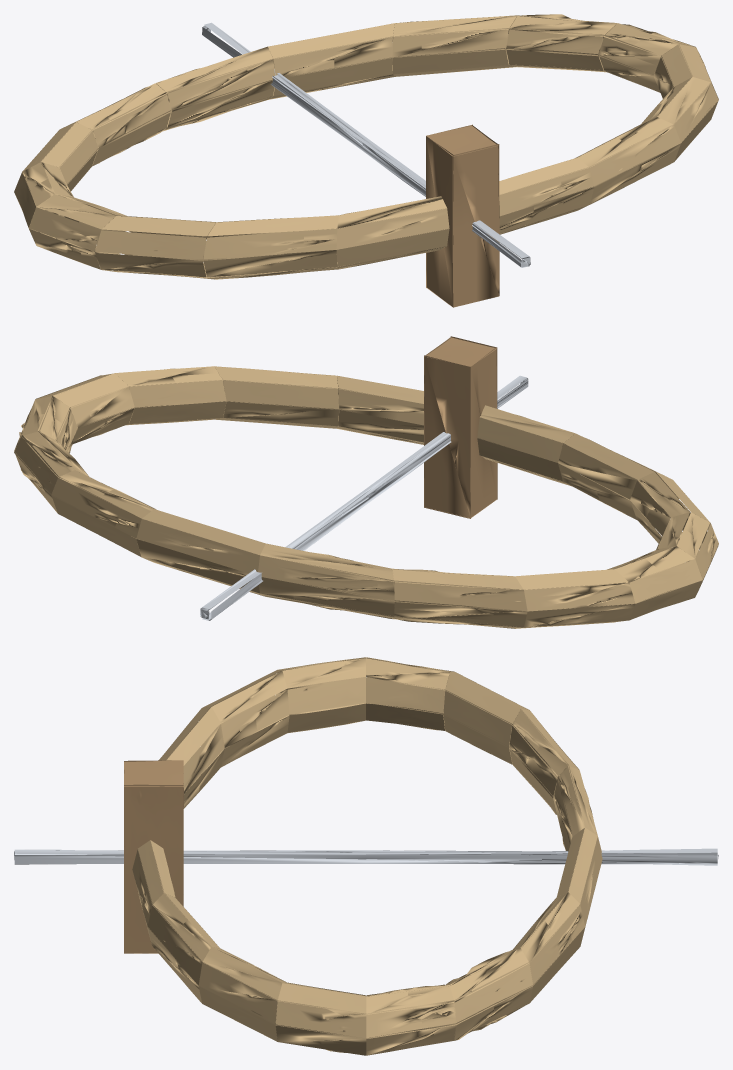
The model's file is bow.glb.
The picture shows the model from 3 angles, top to bottom: view 1: azimuth 30°, elevation 25°; view 2: azimuth 150°, elevation 25°; view 3: azimuth 270°, elevation 25°; orthographic projection. The views are drawn at different scales.
Parts seen in each view (by area): view 1: BowCurve; view 2: BowCurve; view 3: BowCurve.
Part boxes in pixels (left/top/right/bottom): BowCurve: left=14, top=14, right=718, bottom=307; BowCurve: left=14, top=336, right=718, bottom=628; BowCurve: left=14, top=657, right=718, bottom=1055.
Bounding box in the file's own units: 1.3 × 0.2801 × 1.06.
